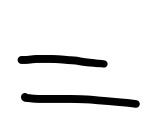eqv: (18, 54, 139, 108)
